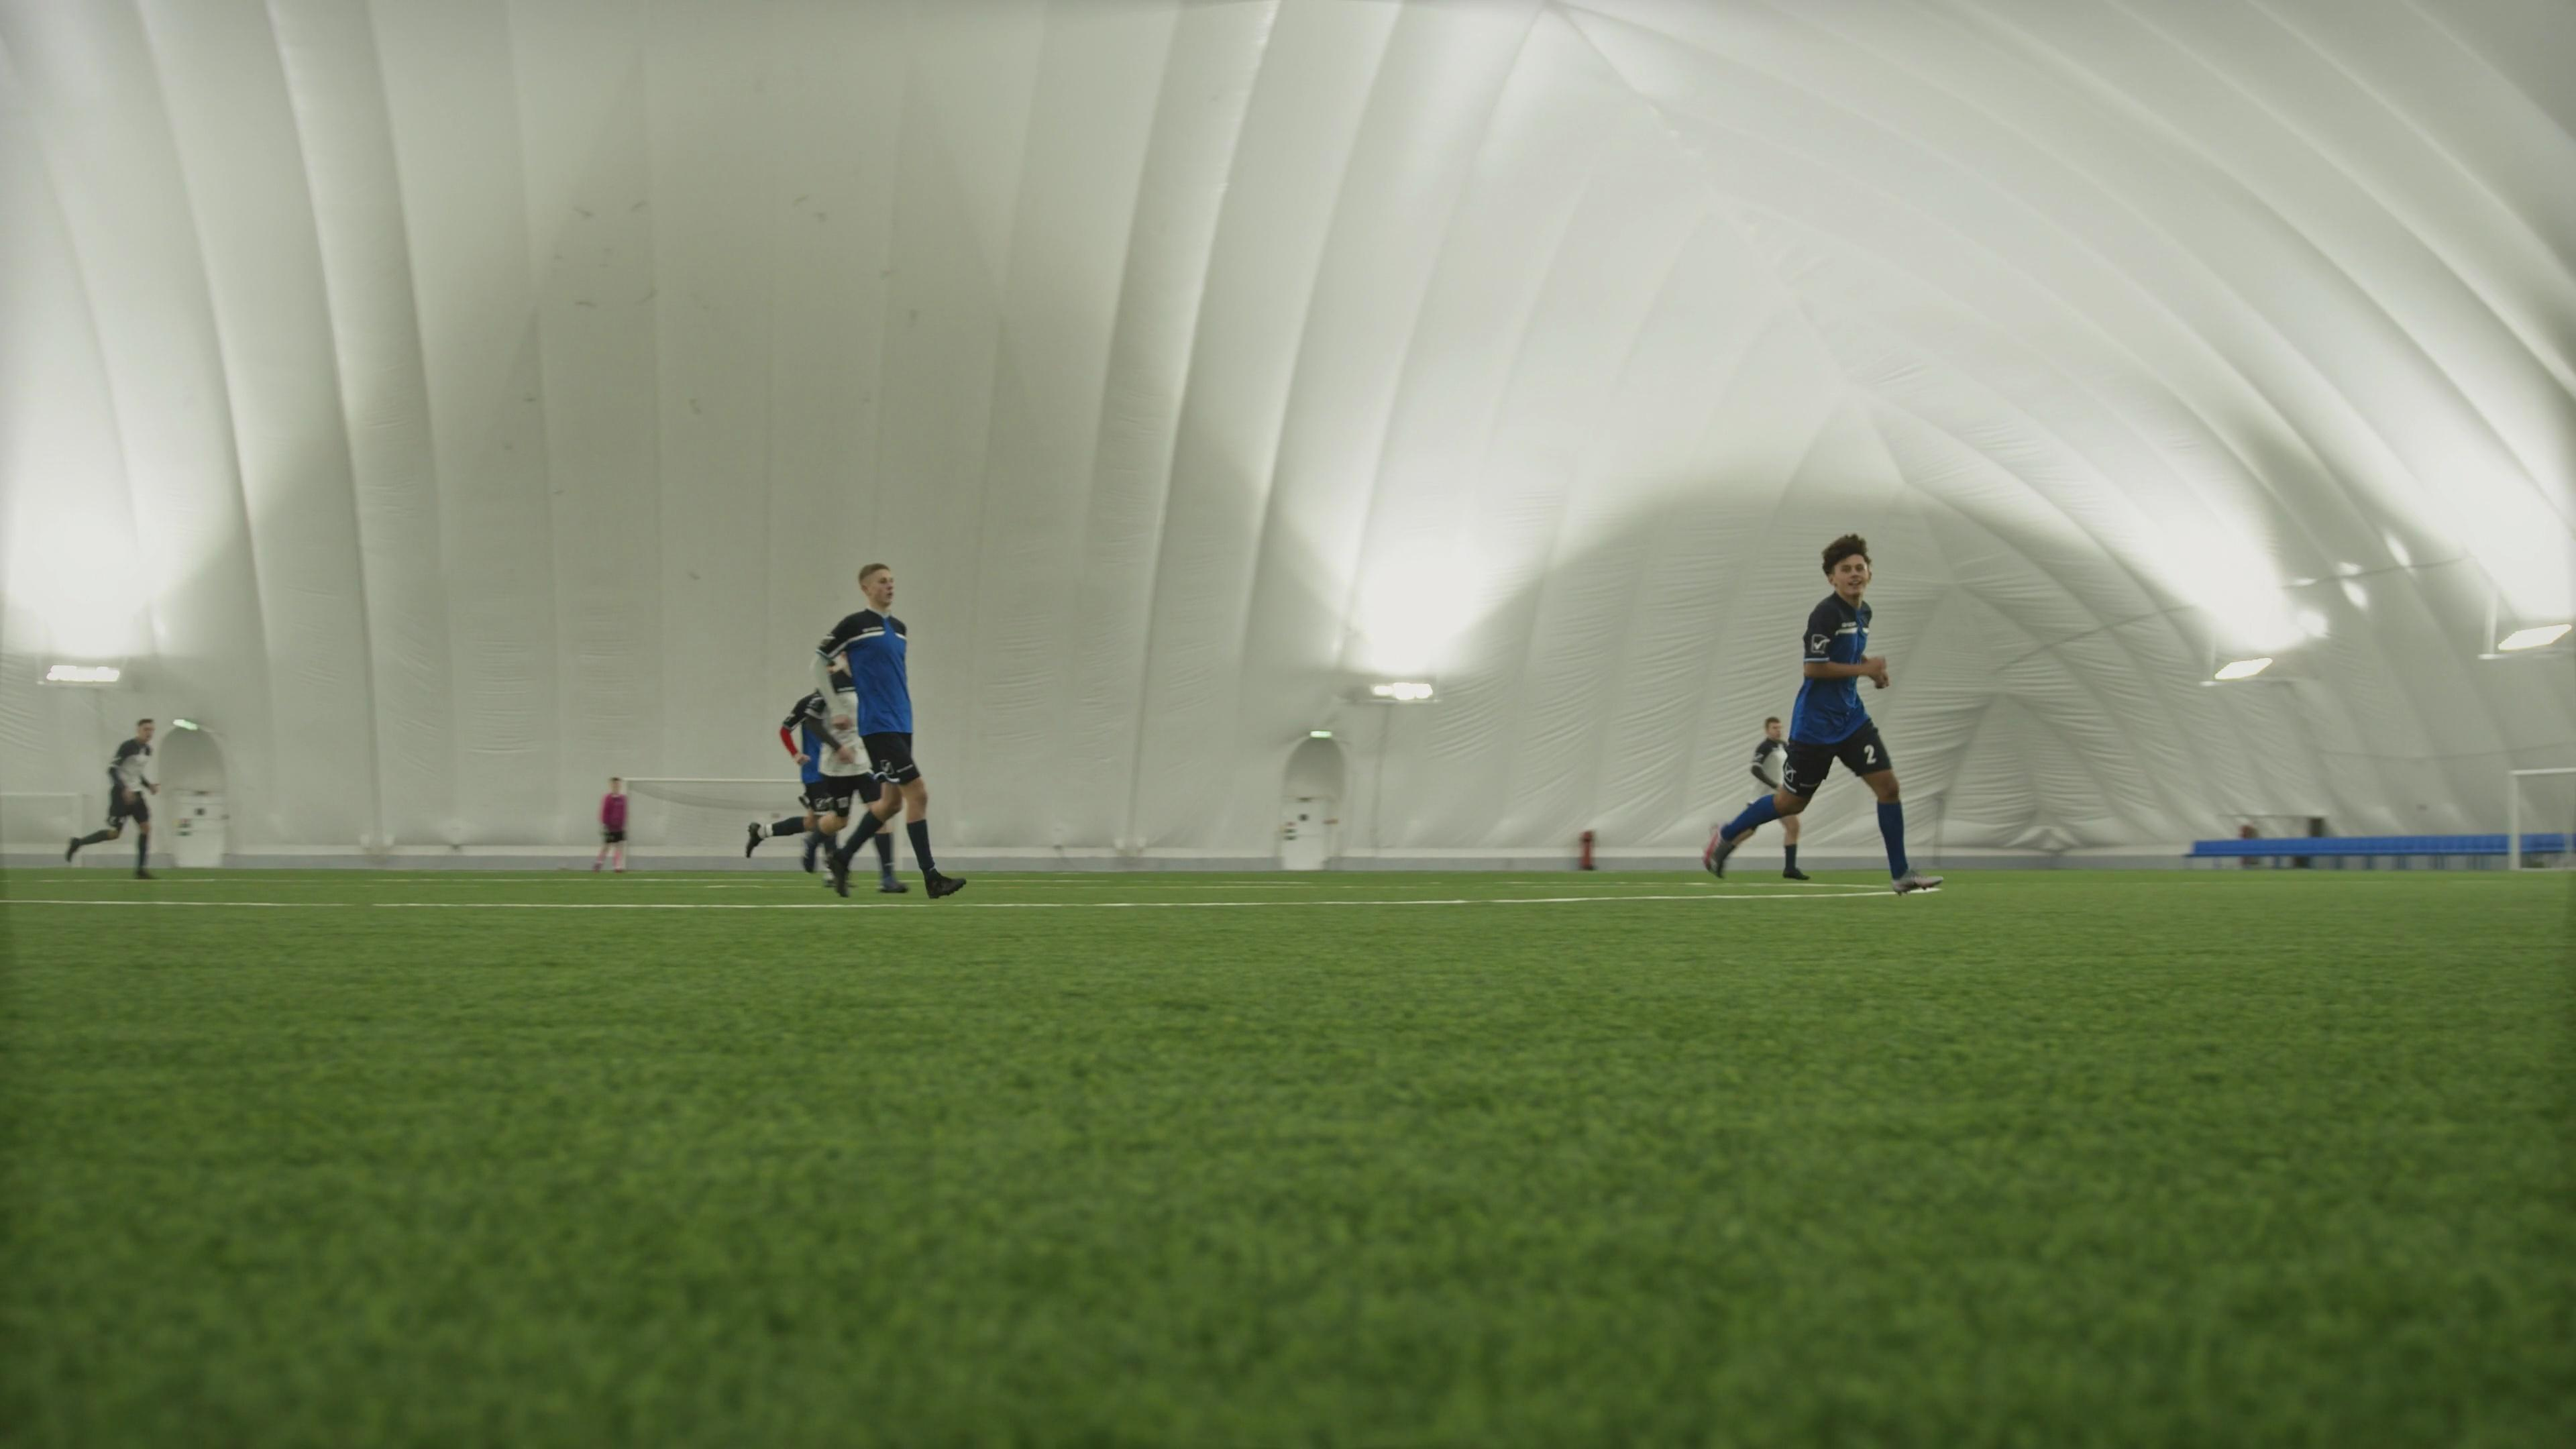team1: (1698, 531, 1925, 892), (819, 563, 947, 893), (745, 676, 819, 890)
team1gk: (594, 775, 635, 874)
team2: (67, 713, 161, 881), (805, 649, 863, 890), (1748, 706, 1803, 881)
